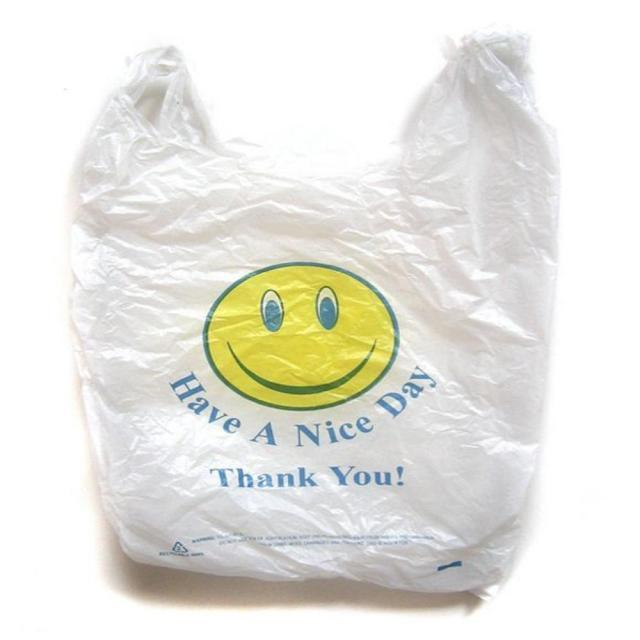Plastic_Bag: (70, 33, 556, 609)
